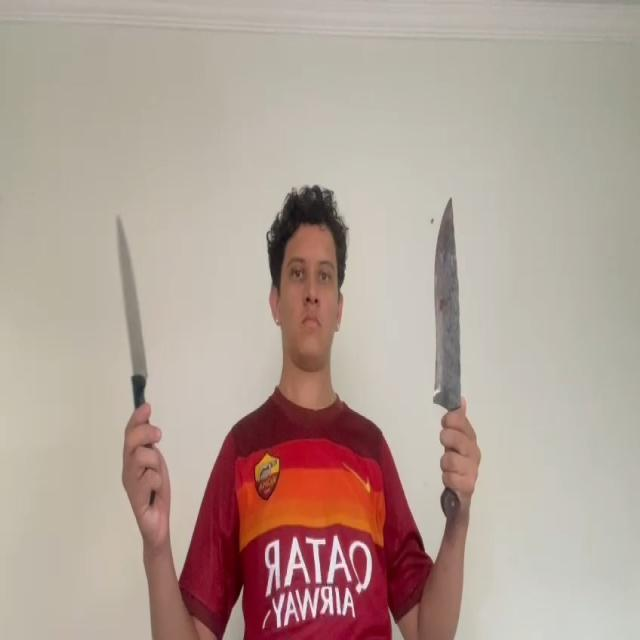knife: (433, 199, 462, 408), (116, 212, 147, 384)
